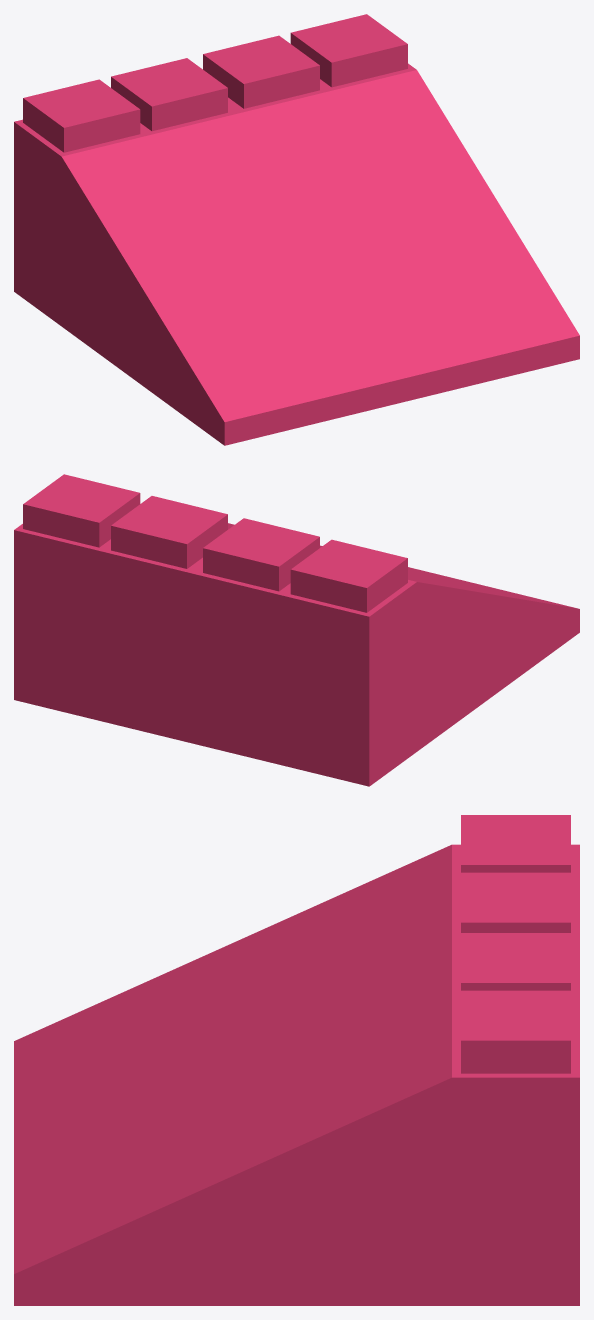
File: Lego_Part_19.fbx
The picture shows the model from 3 angles, top to bottom: view 1: azimuth 30°, elevation 25°; view 2: azimuth 150°, elevation 25°; view 3: azimuth 270°, elevation 25°; orthographic projection. The views are drawn at different scales.
Visible parts, largest first — view 1: Lego_Part_19; view 2: Lego_Part_19; view 3: Lego_Part_19.
Boxes of the visible parts, box(x1,y1,x2,y2) form: Lego_Part_19: box(14, 14, 579, 445); Lego_Part_19: box(14, 474, 579, 786); Lego_Part_19: box(14, 815, 579, 1305).
Bounding box in the file's own units: 6.26 × 3.28 × 6.43.
1 material, 1 textured.
